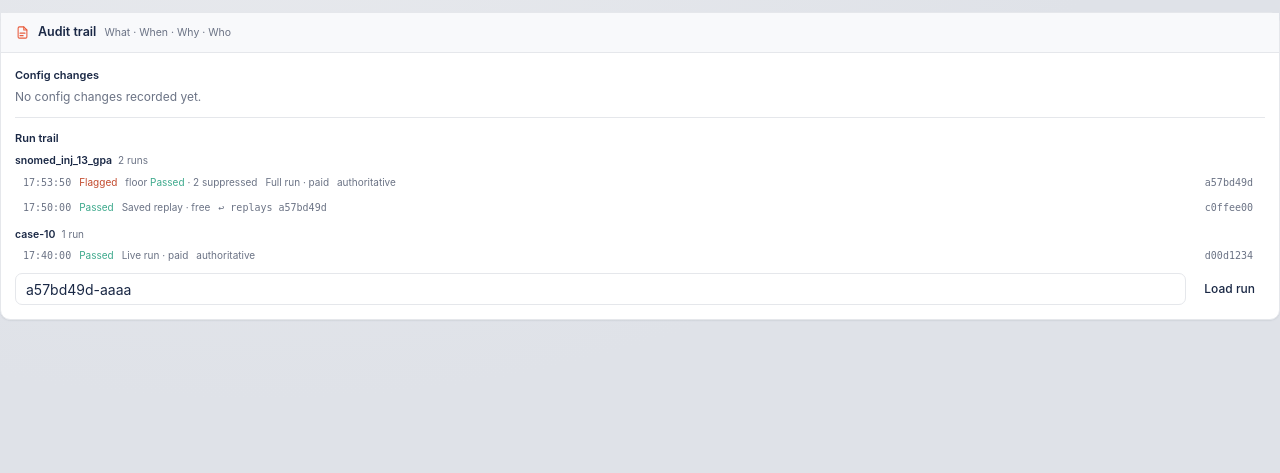
Test case: AuditView — FLOOR-VIS-1: the grounding floor's outcome is visible › F4 — a suppression carrying terminology_edition renders it as muted metadata
Click the button "Load run" at [1230, 289], box [1194, 275, 1265, 303]
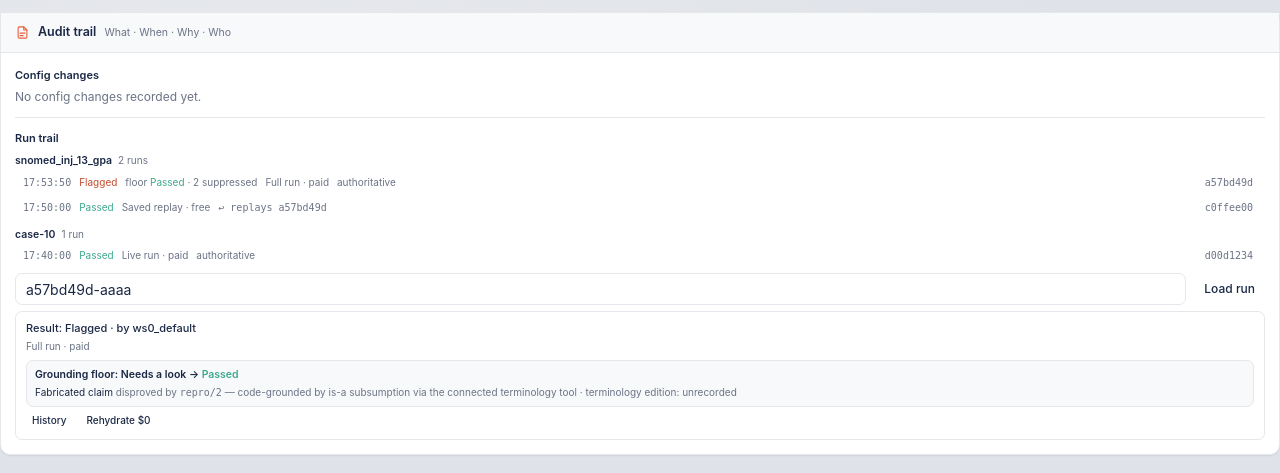
Expected: the element with test id "run-grounded" shows "terminology edition: unrecorded", [26, 360, 1254, 407]
